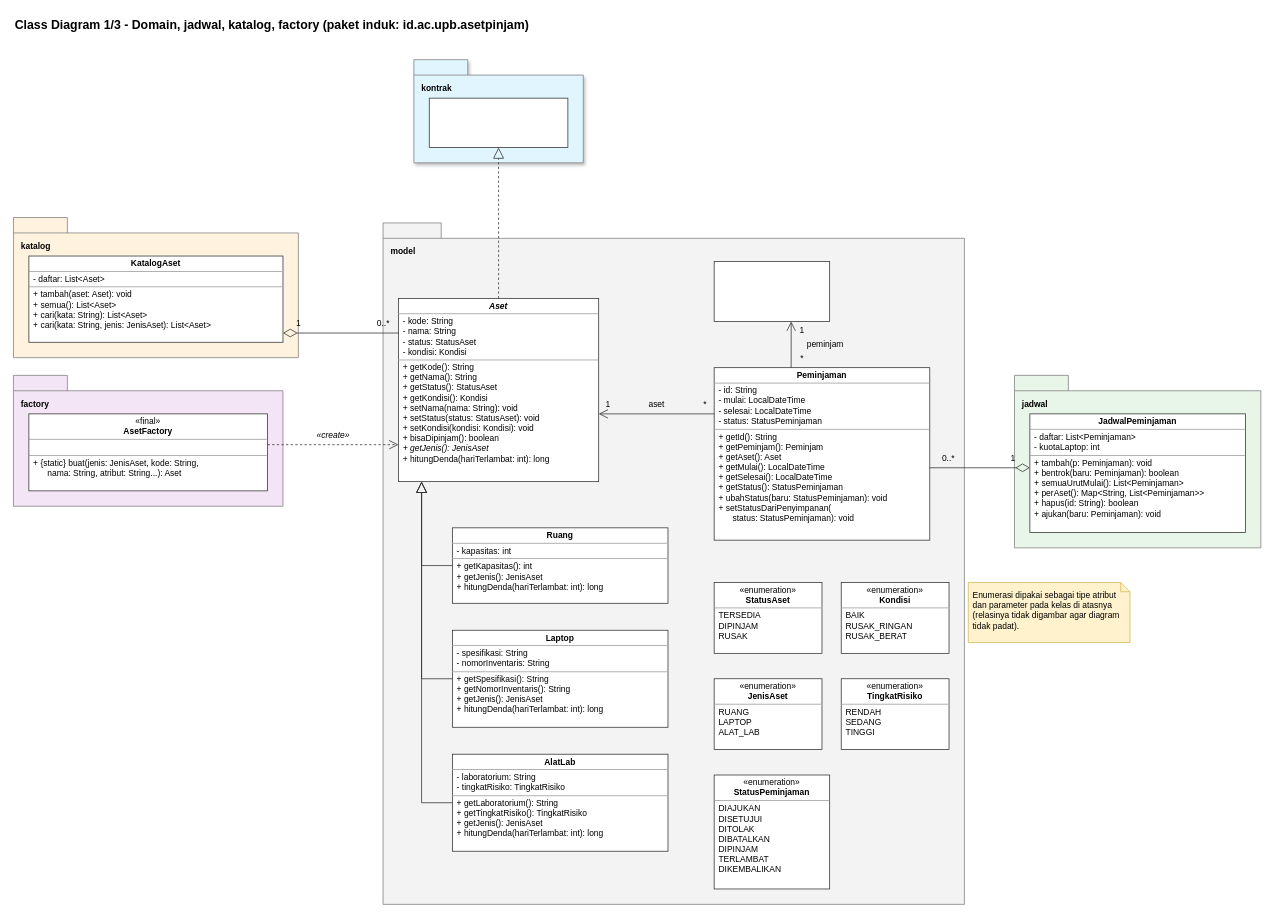
The diagram is 1274 pixels wide and 918 high, and some of its shapes have lost their labels. The centre of each missing label's shape, as x and y in pixels:
"«interface» DapatDipinjam + bisaDipinjam(): boolean" goes at point (498, 122).
"«record» Peminjam + id: String + nama: String" goes at point (771, 291).
